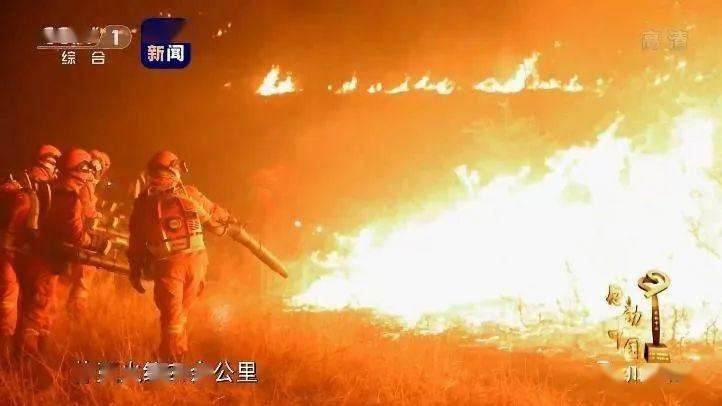fire: (287, 122, 716, 336), (239, 56, 596, 100)
